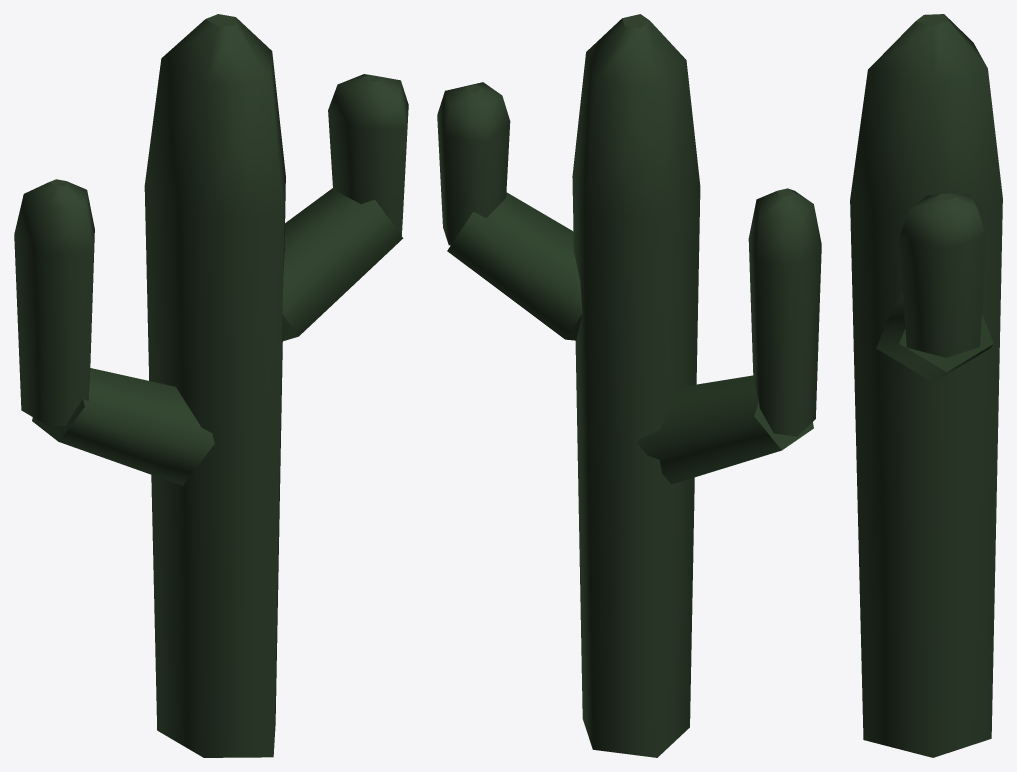
File: cactus.glb
3 renders of one model, left to right at view 1: azimuth 30°, elevation 25°; view 2: azimuth 150°, elevation 25°; view 3: azimuth 270°, elevation 25°, orthographic.
Visible parts, largest first — view 1: cactus; view 2: cactus; view 3: cactus.
Part boxes in pixels (box(x1,y1,x2,y2)): cactus: box(14, 14, 408, 757); cactus: box(437, 14, 821, 757); cactus: box(850, 14, 1002, 757).
Size of the model in its own units: 10 by 18 by 3.5.
